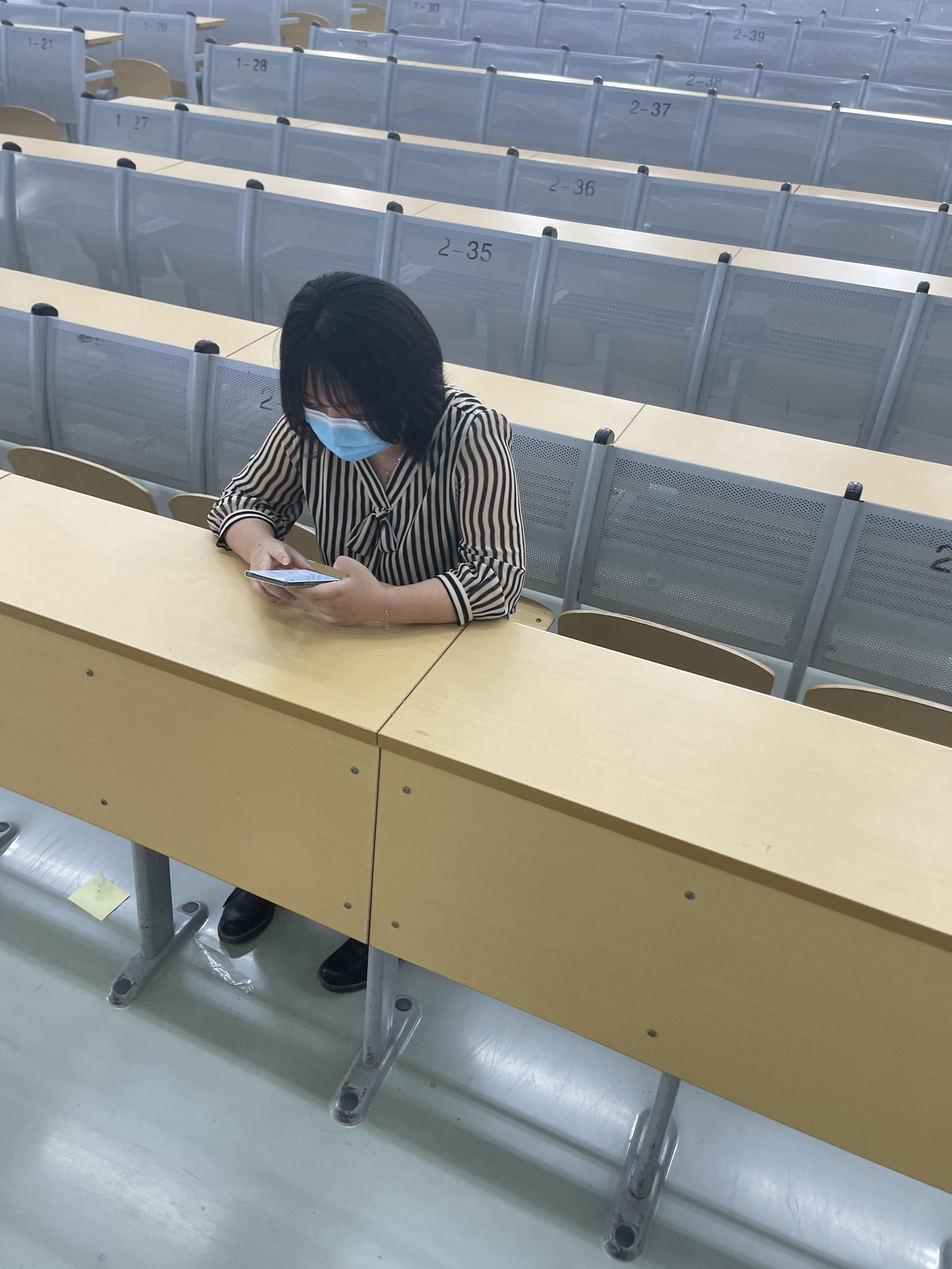phone: (210, 274, 521, 629)
